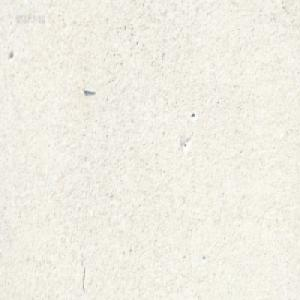Nail: (83, 86, 96, 95)
